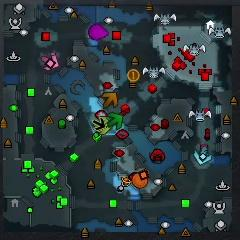Other: (127, 69, 139, 82)
p3: (89, 24, 109, 40)
p5: (133, 172, 149, 187)
x1: (42, 52, 60, 71)
x2: (94, 116, 111, 134)
x3: (193, 147, 213, 166)
x4: (107, 112, 124, 129)
x5: (102, 91, 119, 109)
